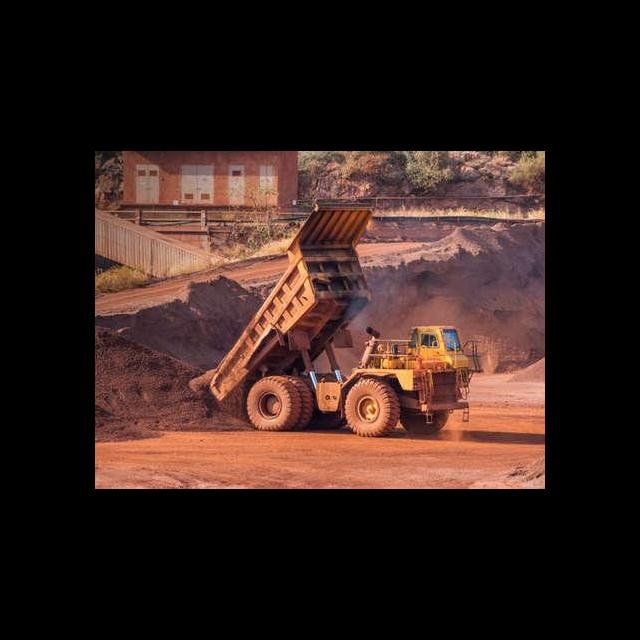dump truck: (204, 198, 482, 444)
